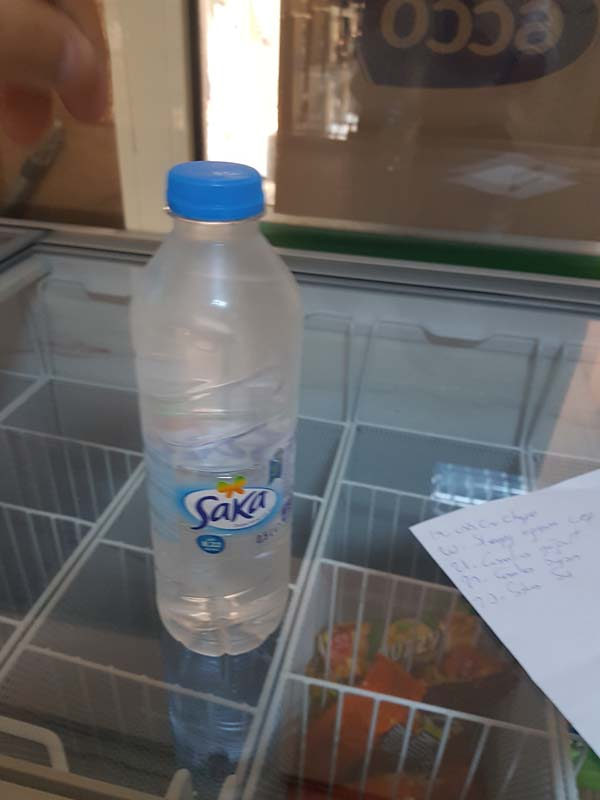saka500mlsu: (122, 149, 306, 657)
